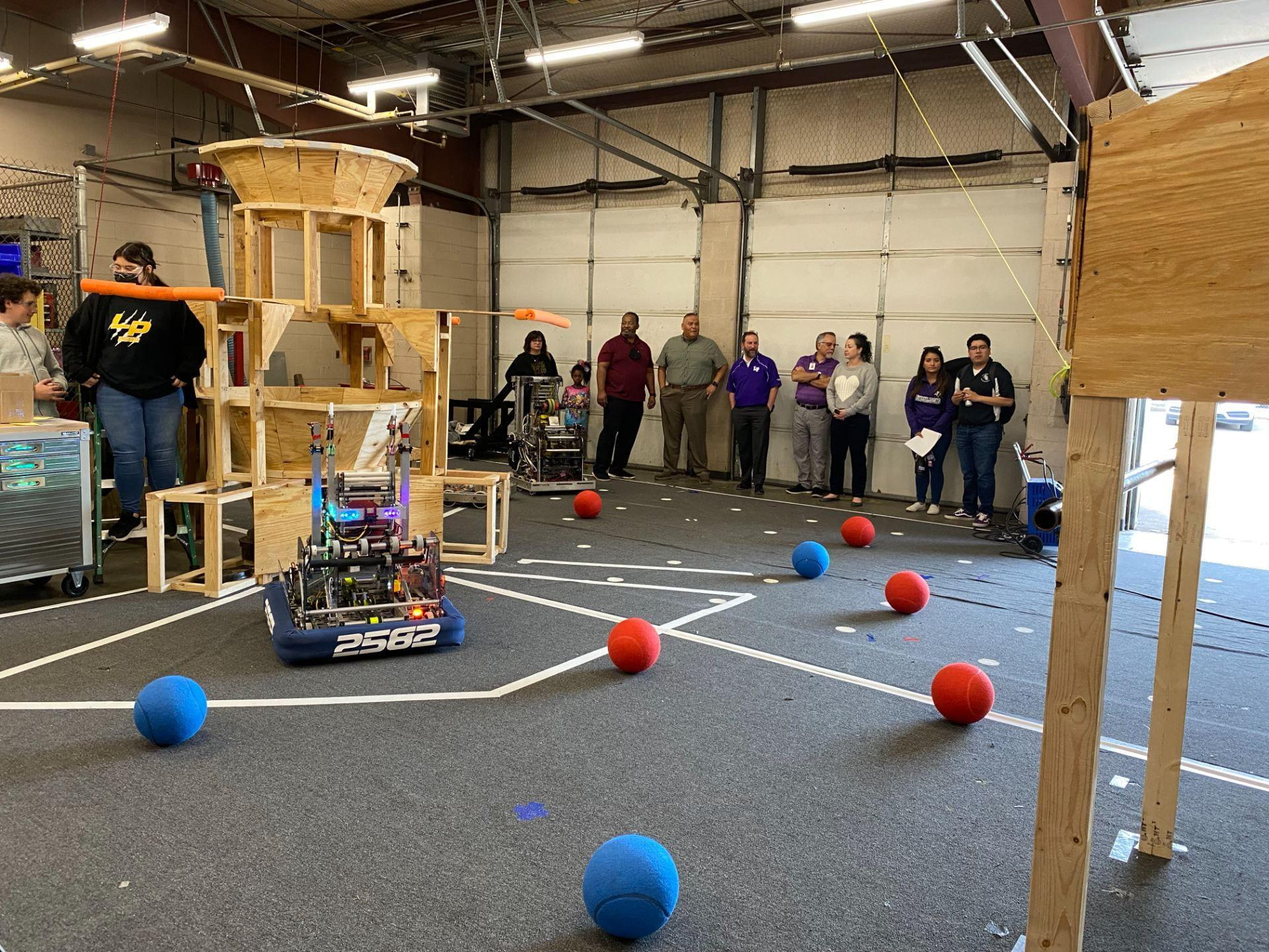robot: (258, 397, 472, 665)
